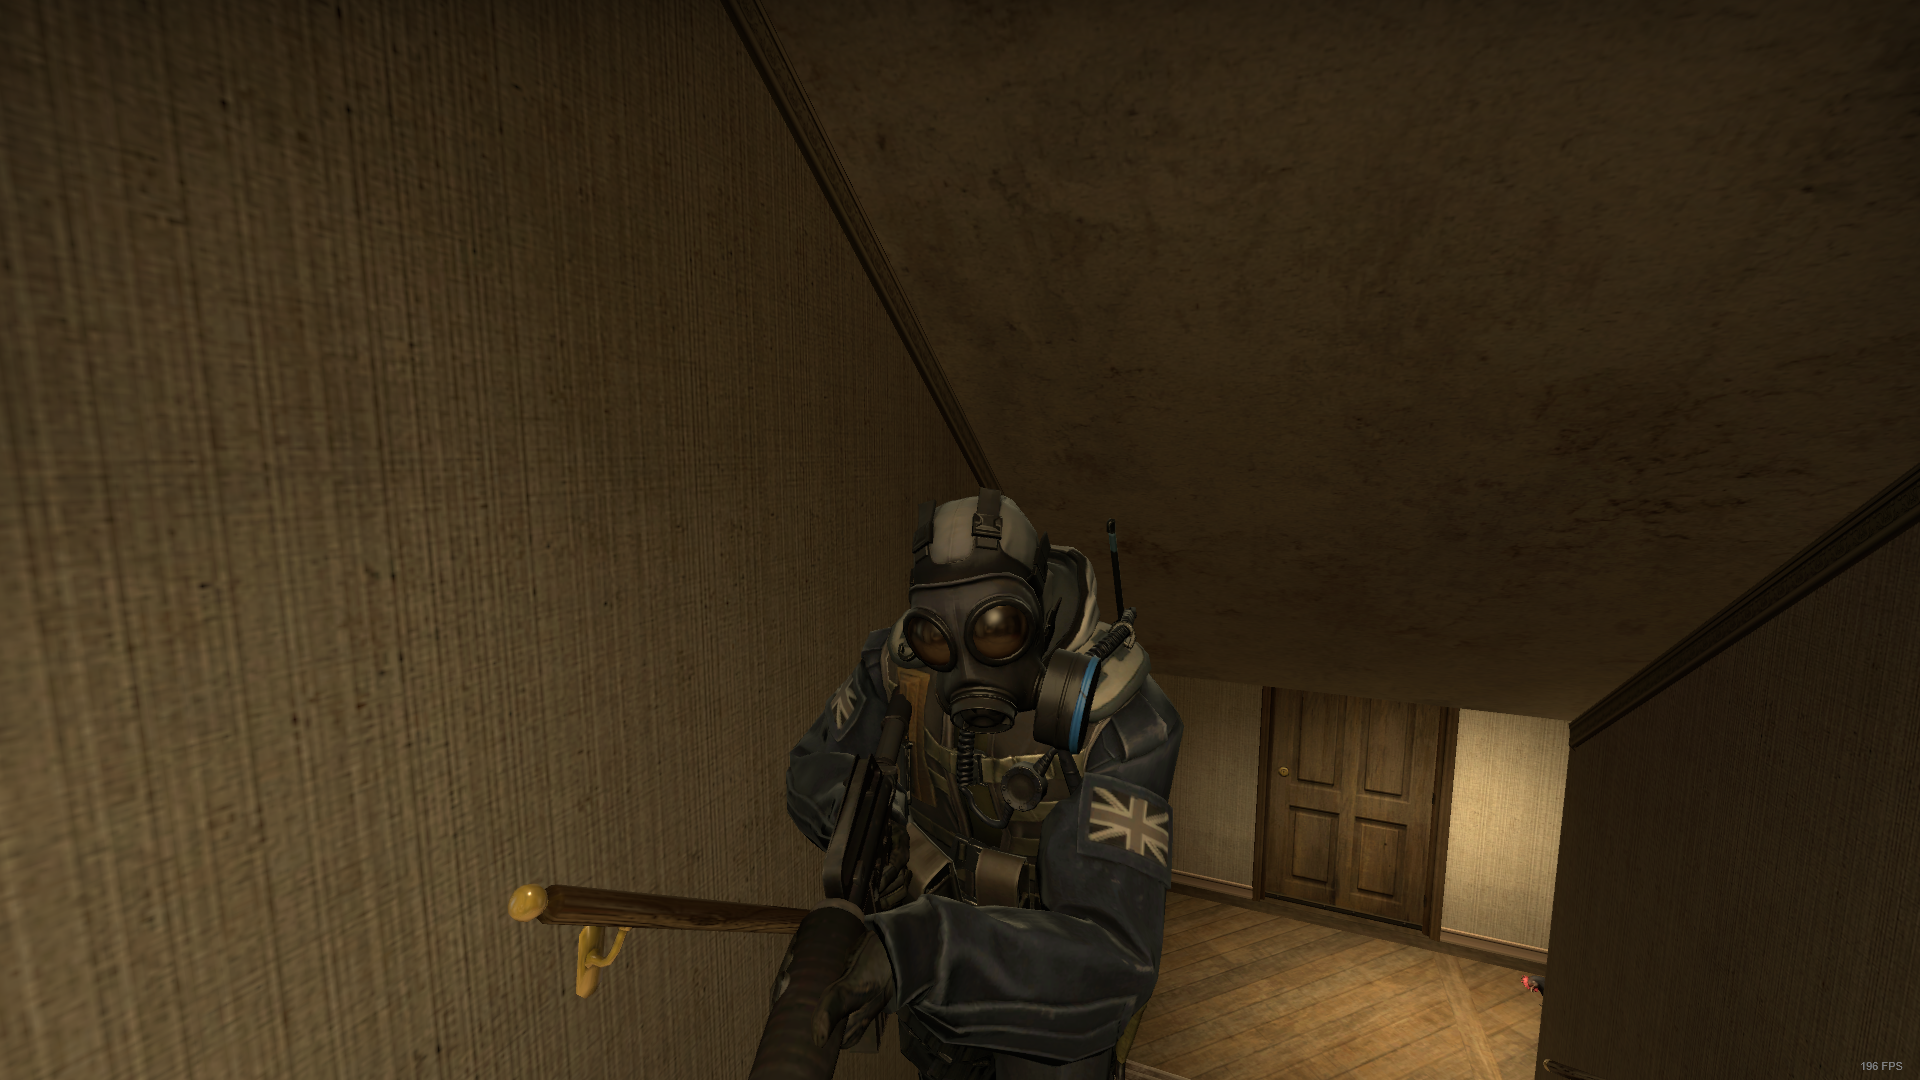ct: (777, 480, 1199, 1077)
